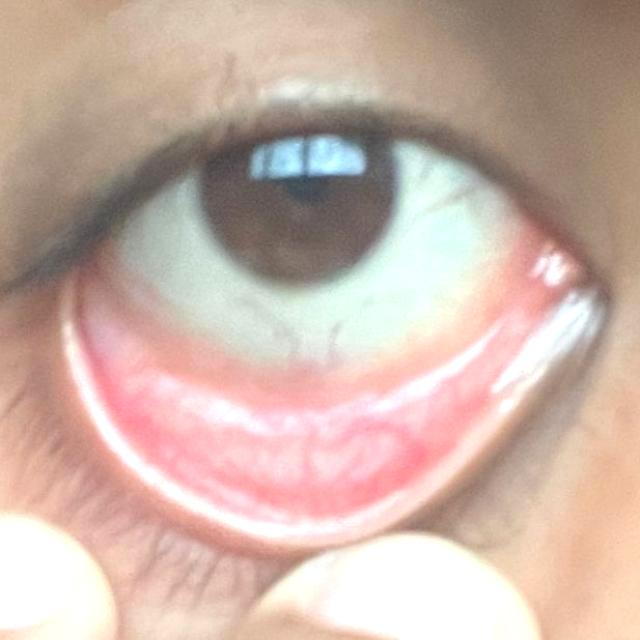conjunctiva_pallor: (75, 242, 587, 523)
